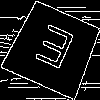E: (28, 23, 78, 79)
